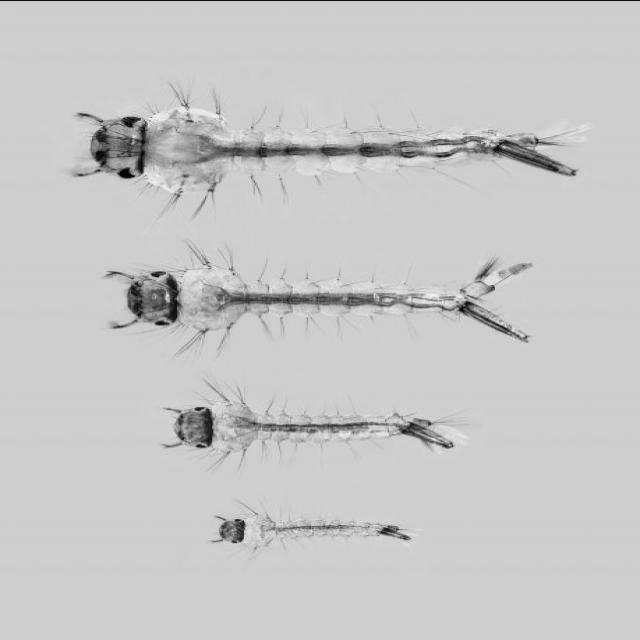larvas: (89, 102, 578, 186), (125, 258, 542, 342), (180, 397, 457, 450), (215, 504, 408, 554)
